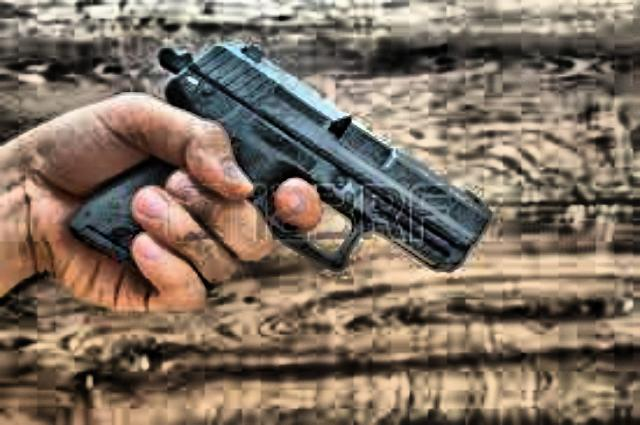pistol: (61, 39, 486, 274)
